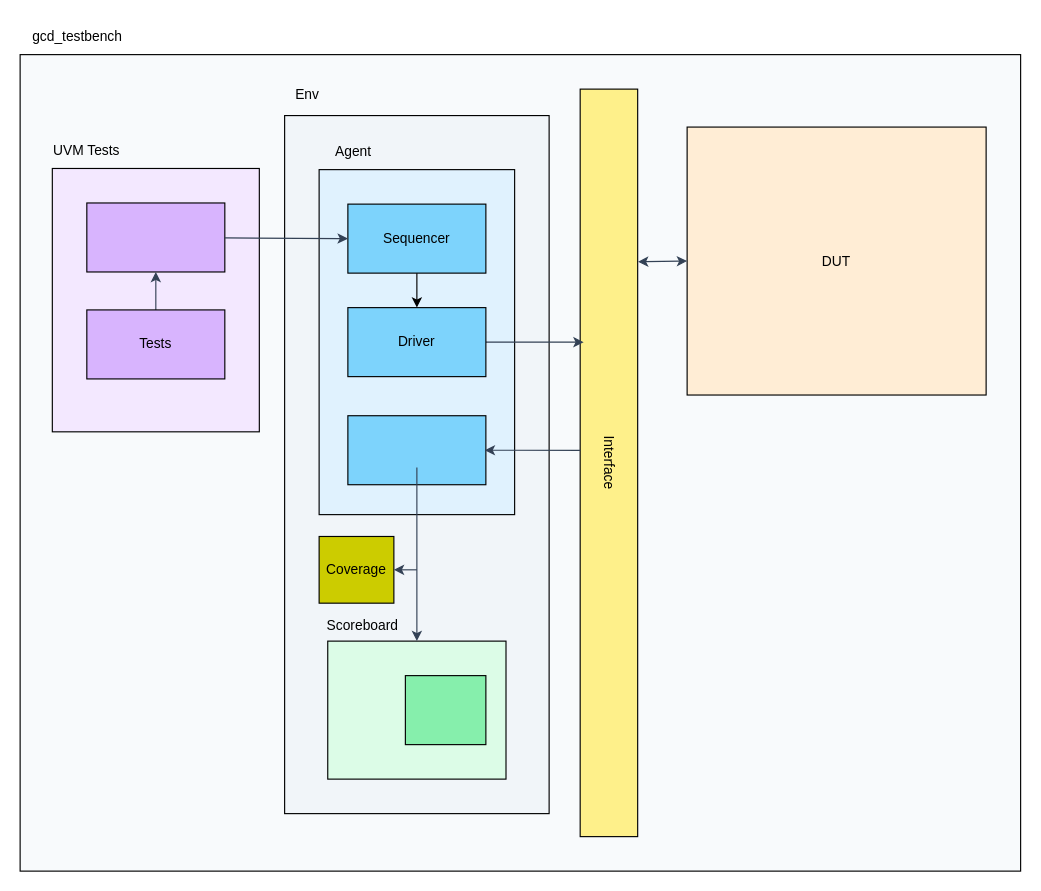
This 1041x891 diagram has some shape labels left out. Each missing label, with the box of its shape:
GCD Golden Model: (404, 674, 486, 745)
Monitor: (347, 415, 486, 485)
Sequences: (86, 202, 225, 272)
